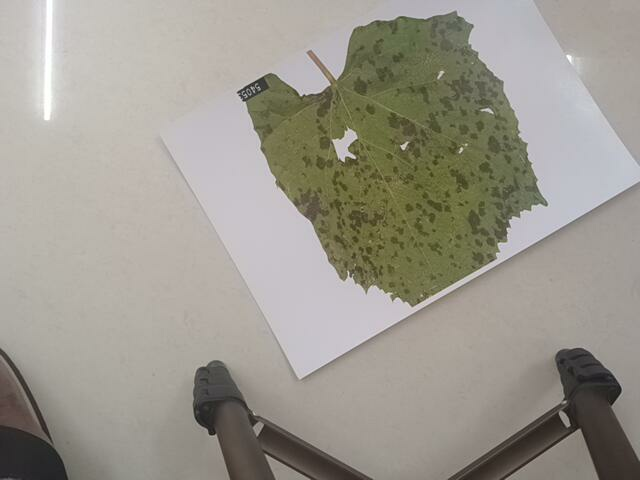Grape_Blight_Leaf: (229, 15, 580, 328)
